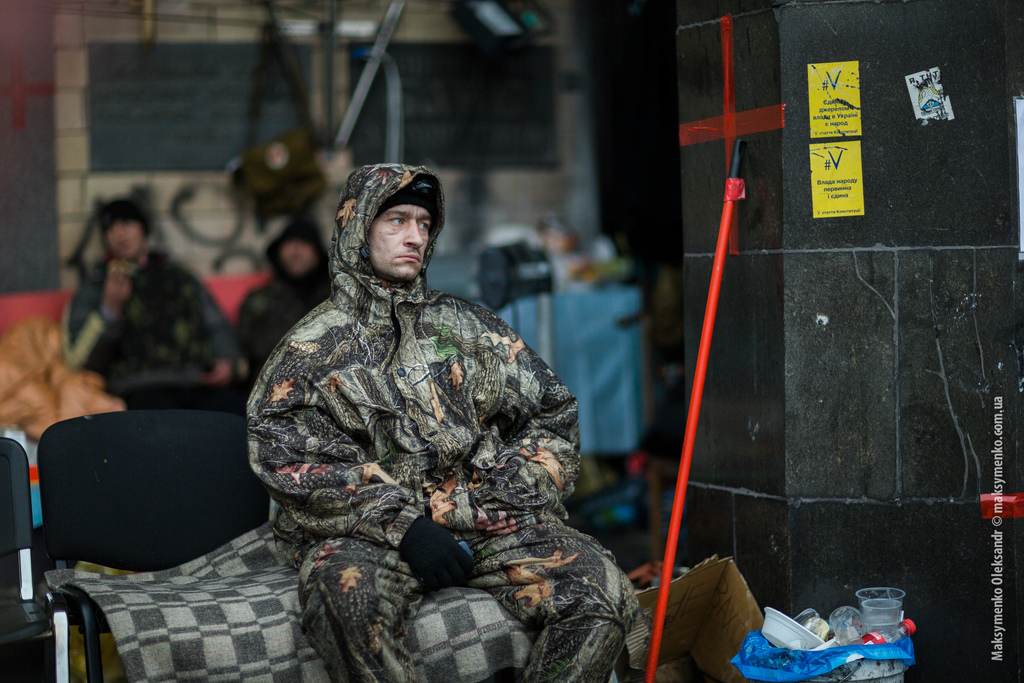face: (274, 227, 318, 276)
